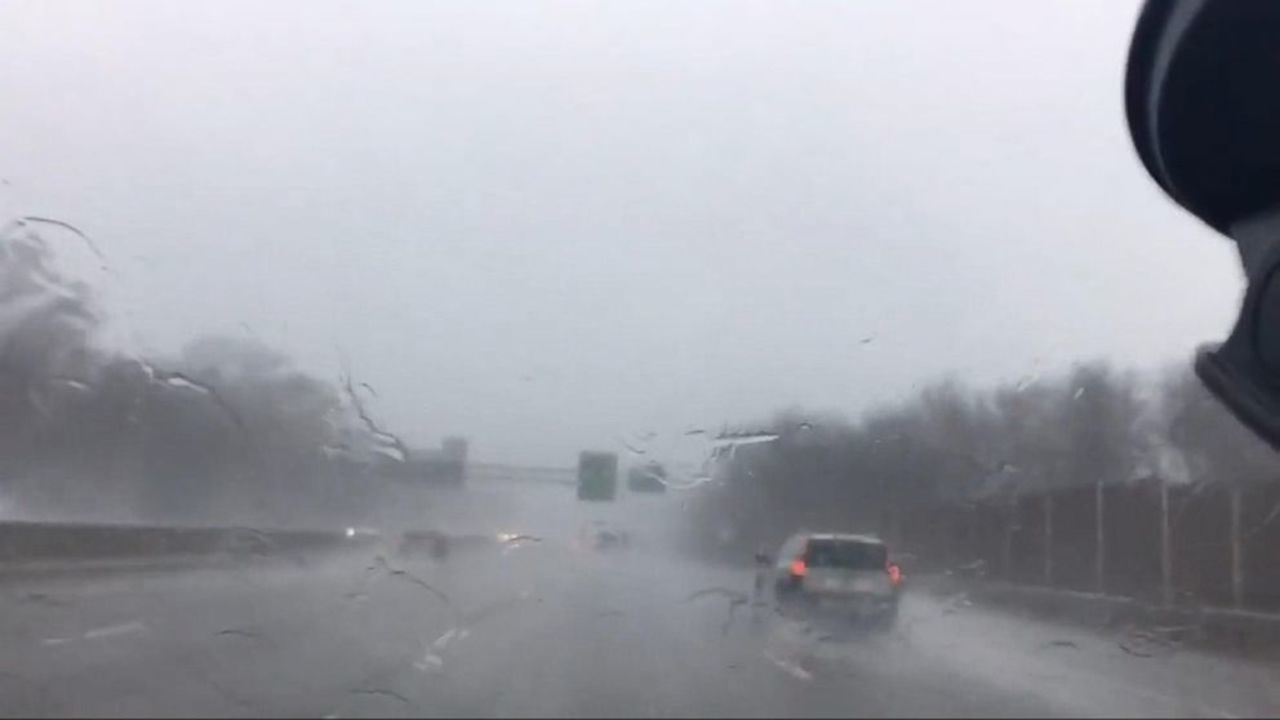car: (764, 530, 900, 634), (391, 523, 448, 563)
